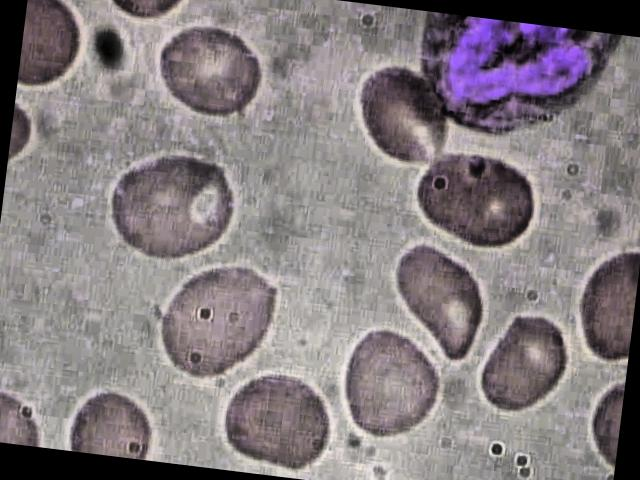RBC: (90, 138, 253, 268), (140, 249, 284, 390), (402, 144, 552, 255), (327, 319, 446, 449), (375, 238, 494, 368), (469, 299, 582, 426), (216, 364, 339, 480), (151, 17, 271, 122), (350, 59, 458, 172), (56, 380, 170, 463)
WBC: (391, 10, 640, 150)
